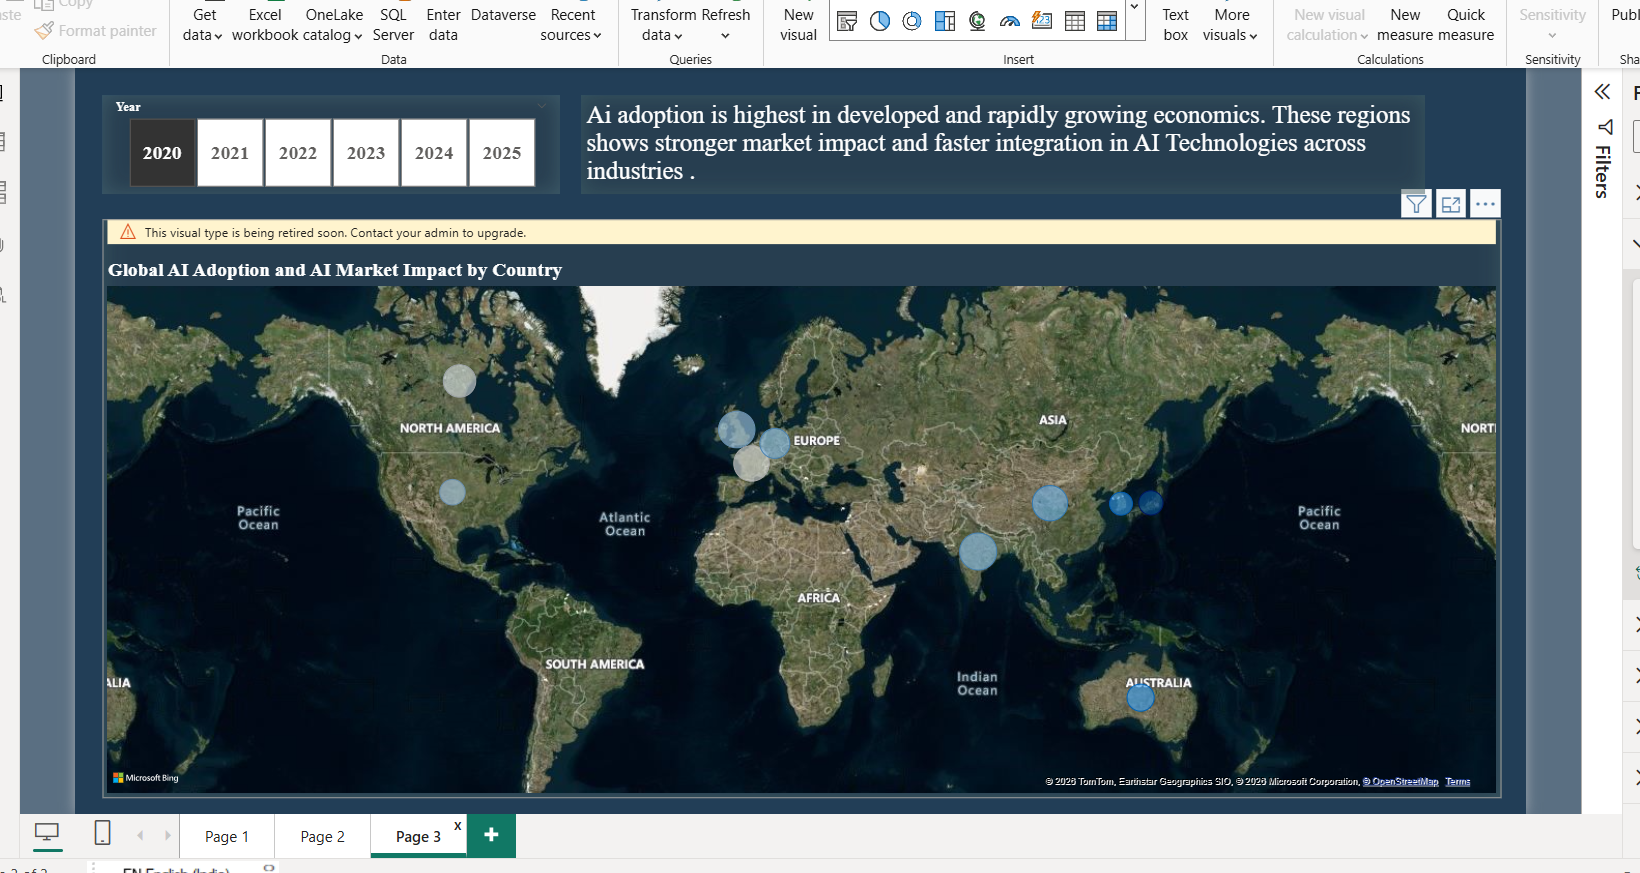

The page's visual inventory and layout, read from the dashboard file:
{"tool":"powerbi","page":{"name":"Page 3","canvas":[1400,720],"ordinal":2},"visuals":[{"type":"slicer","fields":{"Values":["Global_AI_Content_Impact_Dataset.Year"]},"box":[26.5,26.5,441.6,95.3],"z":0},{"type":"map","title":"Global AI Adoption and AI Market Impact by Country","fields":{"Category":["Global_AI_Content_Impact_Dataset.Country"],"Size":["Avg(Global_AI_Content_Impact_Dataset.AI Adoption Rate (%))"]},"box":[26.5,146,1350,558.6],"z":1000},{"type":"textbox","box":[488.6,26.5,814.3,95.3],"z":1001}]}

Visuals, with their boxes in screenshot pixels (x1, y1, x2, y2):
slicer - Global_AI_Content_Impact_Dataset.Year: {"left": 18, "top": 22, "right": 528, "bottom": 132}
"Global AI Adoption and AI Market Impact by Country" map: {"left": 18, "top": 160, "right": 1577, "bottom": 805}
textbox: {"left": 552, "top": 22, "right": 1492, "bottom": 132}
